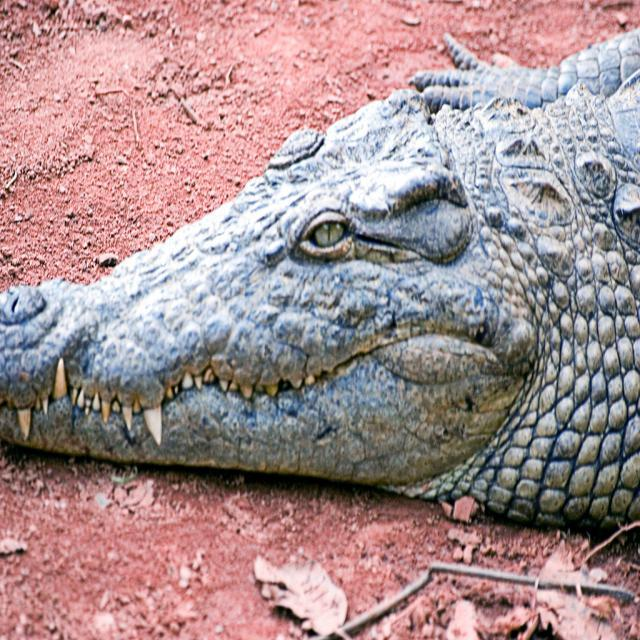crocodile: (0, 3, 639, 552)
